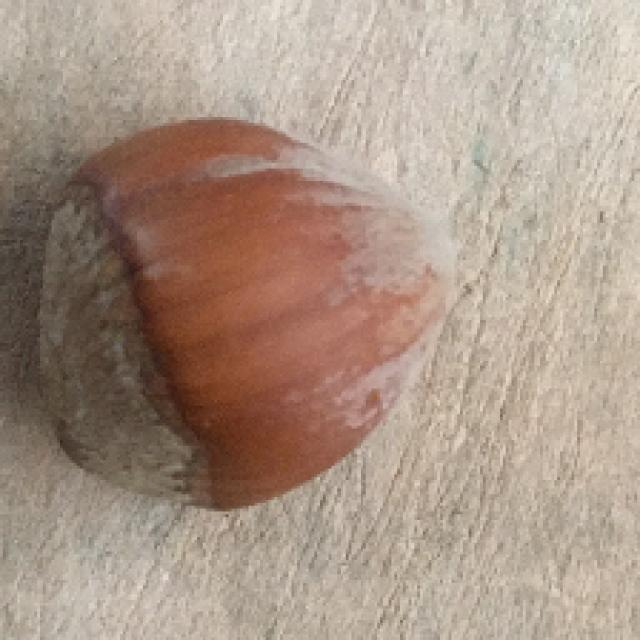qualityHazelnut: (29, 124, 456, 520)
